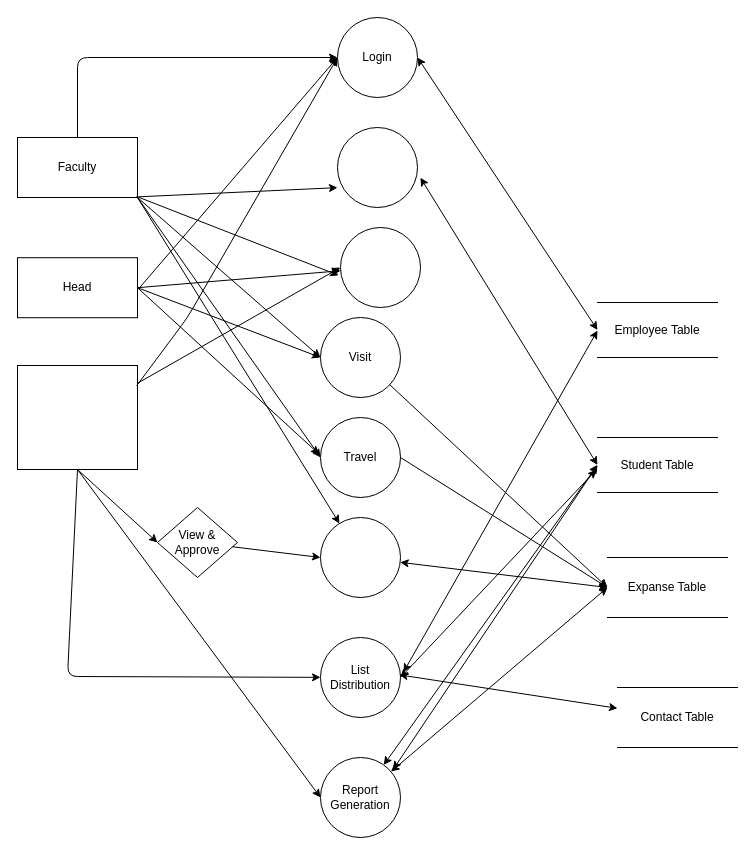
This 755x855 diagram has some shape labels left out. The shapes that lost their labels are listed below. From the top down, each one's centre as x and y in pixels, then its label:
At [377,167]: "Update Responce".
At [380,267]: "Set Reminder".
At [77,417]: "Admission Coordinator/ Principal Sir".
At [360,557]: "Add Expance".
